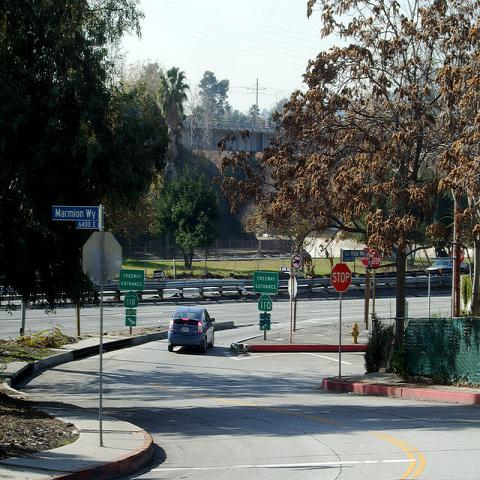car: (167, 306, 217, 355), (424, 258, 452, 278)
